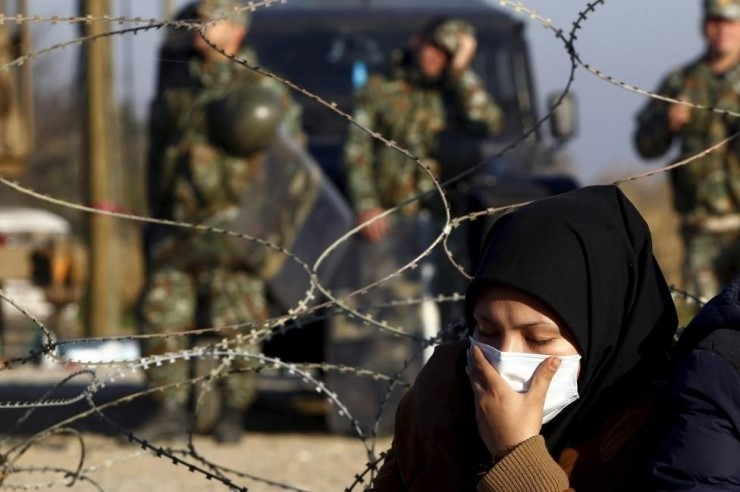face_with_mask: (463, 187, 638, 436)
